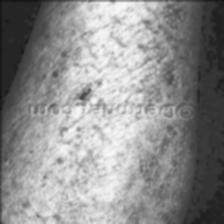Non-Cancerous Skin Condition: (56, 0, 190, 101)
